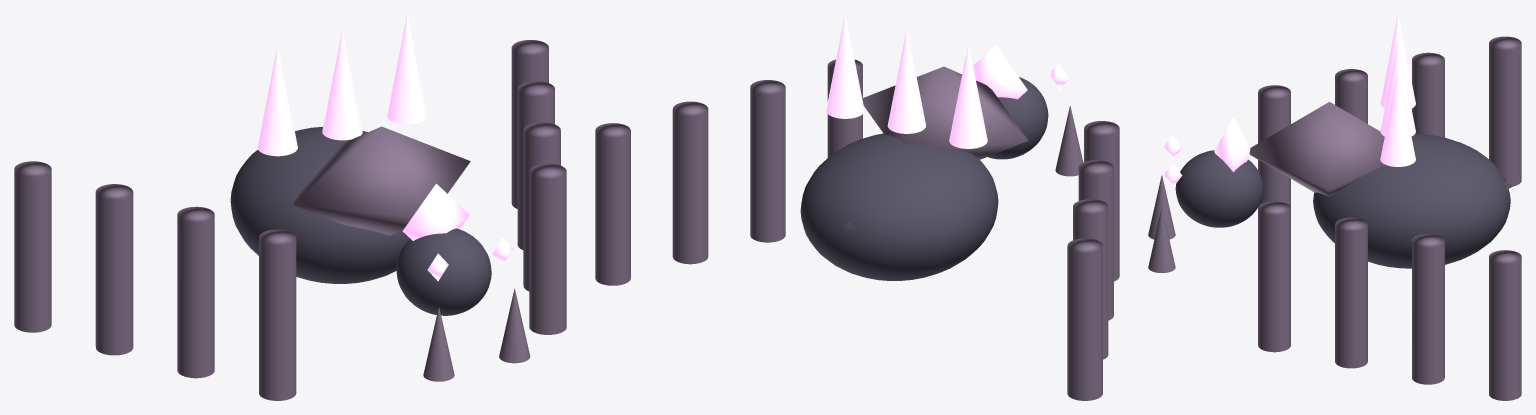
File: dark-spider.glb
3 views of the same model, side by side, from view 1: azimuth 30°, elevation 25°; view 2: azimuth 150°, elevation 25°; view 3: azimuth 270°, elevation 25° (orthographic). The views are drawn at different scales.
Parts seen in each view (by area): view 1: abdomen, carapace, leg2-1, leg3-1, leg0-1, leg01, leg1-1, head, spine2, spine0, spine1, leg11 (+5 smaller); view 2: abdomen, carapace, leg21, leg11, leg3-1, leg31, spine0, spine2, spine1, head, leg1-1, leg2-1 (+4 smaller); view 3: abdomen, carapace, head, leg11, leg01, leg21, leg31, leg3-1, leg2-1, leg0-1, spine2, leg1-1 (+5 smaller).
Part boxes in pixels (box(x1,y1,x2,y2)): abdomen: box(230, 126, 410, 283); carapace: box(292, 126, 470, 235); leg2-1: box(95, 184, 133, 355); leg3-1: box(14, 161, 51, 332); leg0-1: box(259, 229, 296, 400); leg01: box(529, 163, 566, 334); leg1-1: box(177, 206, 214, 378); head: box(396, 228, 491, 315); spine2: box(387, 14, 427, 124); spine0: box(257, 45, 297, 156); spine1: box(322, 30, 362, 140); leg11: box(523, 122, 560, 291); abdomen: box(800, 133, 998, 280); carapace: box(862, 66, 1028, 159); leg21: box(672, 101, 708, 264); leg11: box(750, 80, 785, 242); leg3-1: box(1067, 238, 1102, 400); leg31: box(595, 123, 630, 285); spine0: box(949, 44, 987, 148); spine2: box(826, 14, 864, 118); spine1: box(887, 29, 925, 133); head: box(988, 77, 1048, 159); leg1-1: box(1078, 160, 1113, 320); leg2-1: box(1073, 199, 1108, 359); abdomen: box(1313, 134, 1510, 268); carapace: box(1249, 102, 1384, 196); head: box(1175, 150, 1263, 227); leg11: box(1335, 217, 1367, 368); leg01: box(1258, 201, 1290, 352); leg21: box(1412, 234, 1444, 384); leg31: box(1489, 250, 1521, 400); leg3-1: box(1489, 36, 1521, 186); leg2-1: box(1412, 52, 1444, 137); leg0-1: box(1258, 85, 1290, 207); spine2: box(1380, 70, 1415, 166); leg1-1: box(1335, 69, 1367, 123).
Bounding box in the file's own units: 1.96 × 0.985 × 1.36.
